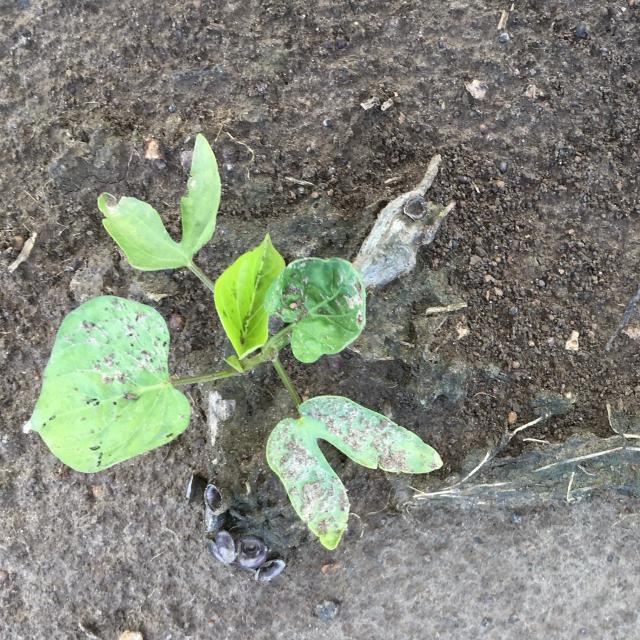MorningGlory: (28, 133, 443, 550)
